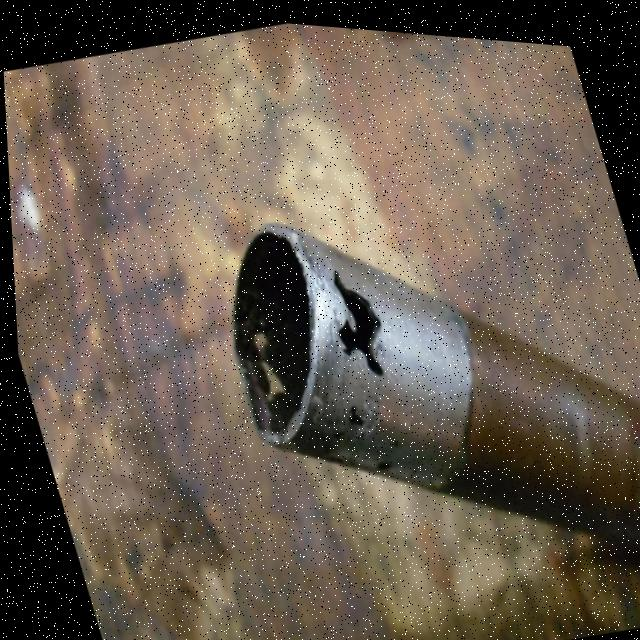hole: (309, 253, 391, 387), (235, 310, 288, 403)
